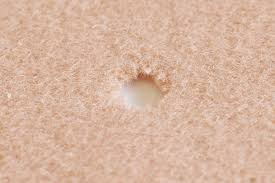Hole: (92, 46, 194, 130)
